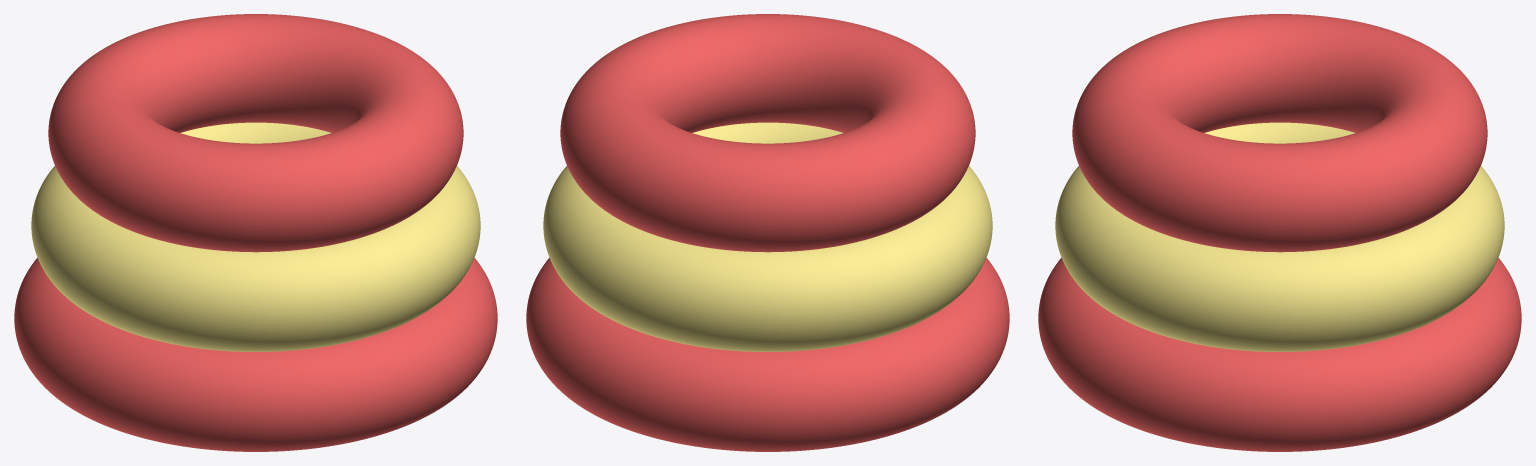
Rendered from Toy_Bumper_Stack_Ultra_Hi.fbx.
3 views of the same model, side by side, from view 1: azimuth 30°, elevation 25°; view 2: azimuth 150°, elevation 25°; view 3: azimuth 270°, elevation 25° (orthographic).
Visible parts, largest first — view 1: Torus.002, Torus, Torus.001; view 2: Torus.002, Torus, Torus.001; view 3: Torus.002, Torus, Torus.001.
Part boxes in pixels (x1,y1,x2,y2): Torus.002: (48, 14, 463, 252); Torus: (14, 258, 497, 451); Torus.001: (31, 122, 480, 351); Torus.002: (560, 14, 975, 252); Torus: (526, 258, 1009, 451); Torus.001: (543, 122, 992, 351); Torus.002: (1072, 14, 1487, 252); Torus: (1038, 258, 1521, 451); Torus.001: (1055, 122, 1504, 351).
Size of the model in its own units: 1.42 by 0.9187 by 1.42.
